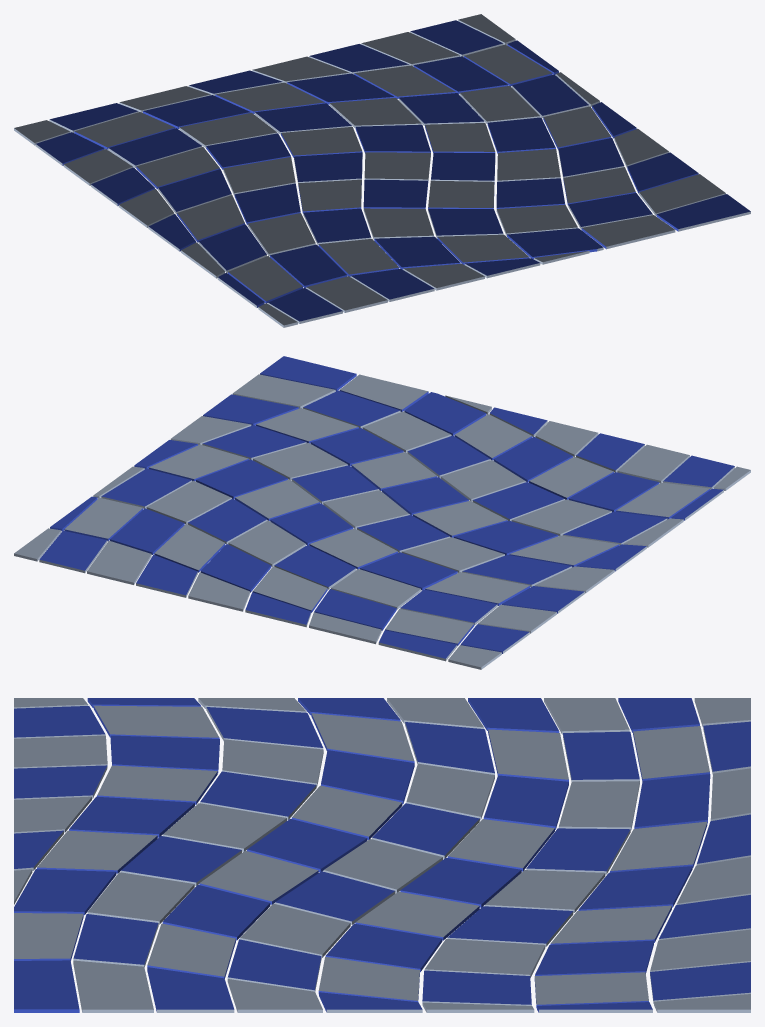
Rendered from Floor 2.fbx.
The picture shows the model from 3 angles, top to bottom: view 1: azimuth 30°, elevation 25°; view 2: azimuth 150°, elevation 25°; view 3: azimuth 270°, elevation 25°; orthographic projection. The views are drawn at different scales.
Visible parts, largest first — view 1: Floor 2; view 2: Floor 2; view 3: Floor 2.
Boxes of the visible parts, x1,y1,x2,y2 form: Floor 2: (14, 14, 750, 327); Floor 2: (14, 356, 750, 669); Floor 2: (14, 698, 750, 1012).
Bounding box in the file's own units: 5.13 × 0.0262 × 5.13.
